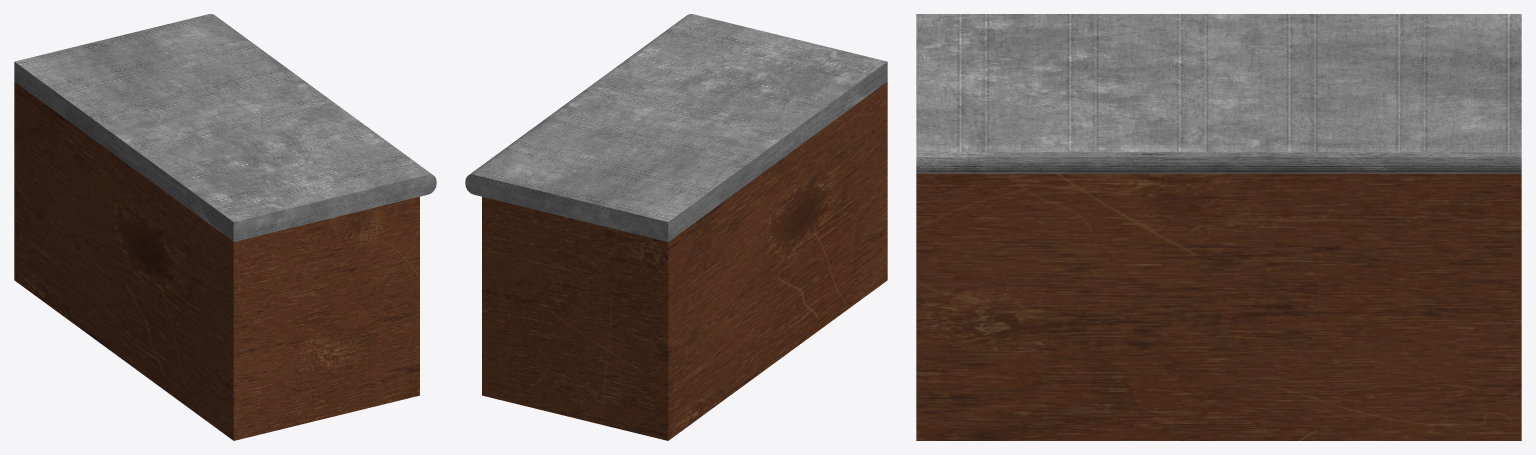
The model's file is KitTable.fbx.
The picture shows the model from 3 angles, left to right: view 1: azimuth 30°, elevation 25°; view 2: azimuth 150°, elevation 25°; view 3: azimuth 270°, elevation 25°; orthographic projection. The views are drawn at different scales.
Parts seen in each view (by area): view 1: Cube; view 2: Cube; view 3: Cube.
Boxes of the visible parts, box(x1,y1,x2,y2) form: Cube: box(14, 14, 436, 440); Cube: box(465, 14, 887, 440); Cube: box(916, 14, 1521, 440).
Bounding box in the file's own units: 213 × 220 × 400.
